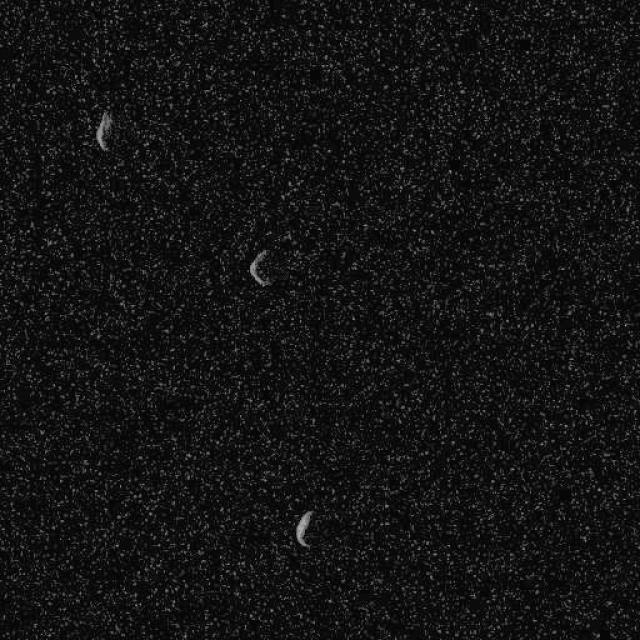D2: (248, 248, 274, 288), (294, 508, 314, 548), (94, 109, 112, 151)
